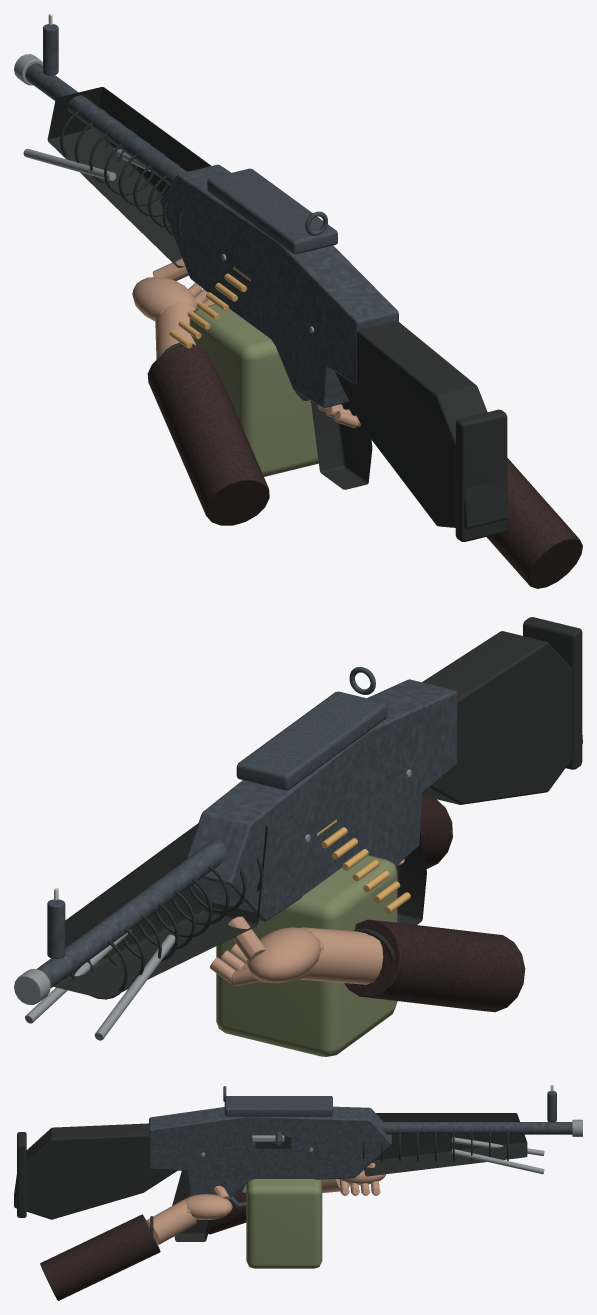
The model's file is minimi.glb.
3 renders of one model, top to bottom at view 1: azimuth 30°, elevation 25°; view 2: azimuth 150°, elevation 25°; view 3: azimuth 270°, elevation 25°, orthographic. The views are drawn at different scales.
Parts seen in each view (by area): view 1: minimi__BODY, minimi__HAND_L, minimi__MAGAZINE, minimi__HAND_R, minimi__FEED_COVER, minimi__BELT; view 2: minimi__BODY, minimi__HAND_L, minimi__MAGAZINE, minimi__FEED_COVER, minimi__HAND_R, minimi__BELT; view 3: minimi__BODY, minimi__HAND_R, minimi__MAGAZINE, minimi__FEED_COVER, minimi__HAND_L.
Boxes of the visible parts, x1,y1,x2,y2 form: minimi__BODY: (14, 14, 507, 541); minimi__HAND_L: (132, 258, 269, 525); minimi__MAGAZINE: (189, 304, 318, 476); minimi__HAND_R: (309, 399, 582, 588); minimi__FEED_COVER: (207, 168, 337, 254); minimi__BELT: (169, 267, 250, 348); minimi__BODY: (14, 617, 582, 1040); minimi__HAND_L: (209, 916, 525, 1012); minimi__MAGAZINE: (216, 855, 397, 1056); minimi__FEED_COVER: (236, 691, 387, 790); minimi__HAND_R: (397, 796, 452, 868); minimi__BELT: (317, 819, 410, 913); minimi__BODY: (14, 1085, 582, 1241); minimi__HAND_R: (40, 1185, 232, 1300); minimi__MAGAZINE: (246, 1179, 322, 1268); minimi__FEED_COVER: (224, 1096, 332, 1116); minimi__HAND_L: (208, 1162, 385, 1234).
Bounding box in the file's own units: 0.3294 × 0.3781 × 1.05.
8 materials, 2 textured.
